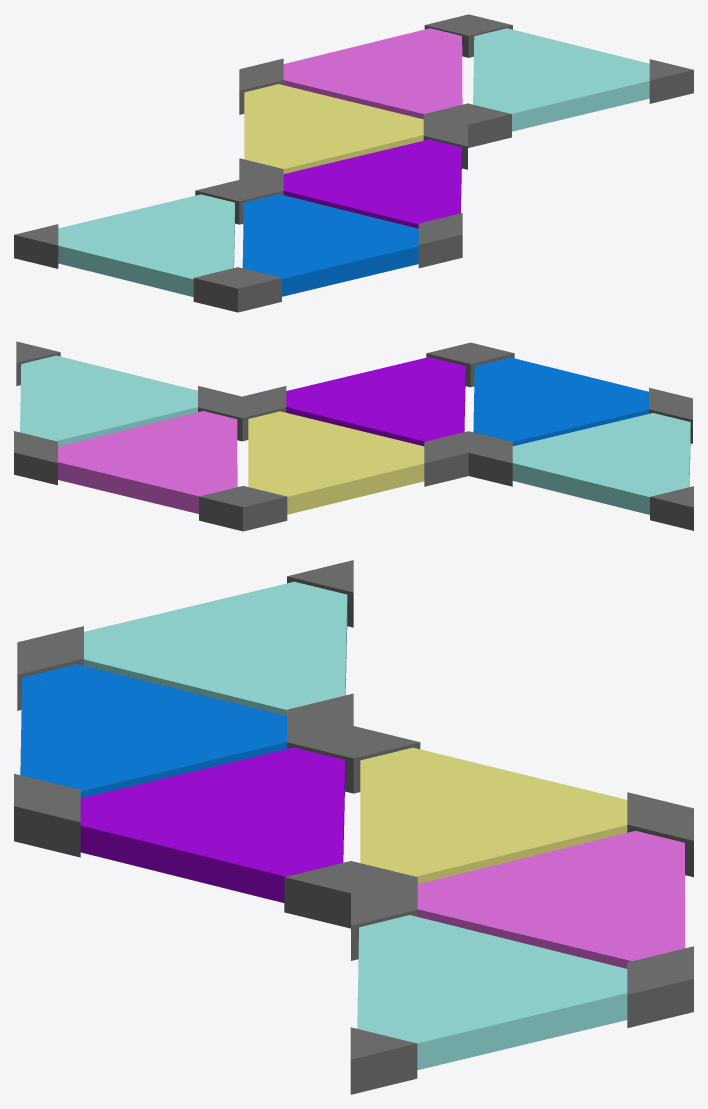
File: M_NanoLeaf.fbx
3 views of the same model, one above another, from view 1: azimuth 30°, elevation 25°; view 2: azimuth 150°, elevation 25°; view 3: azimuth 270°, elevation 25° (orthographic). The views are drawn at different scales.
Parts seen in each view (by area): view 1: pCylinder8, pCylinder2, pCylinder9, pasted__pCylinder5, pCylinder5, pCylinder3, pCylinder11, pCylinder4, pCylinder1, pCylinder10, pCylinder13, pCylinder14 (+2 smaller); view 2: pasted__pCylinder5, pCylinder5, pCylinder9, pCylinder8, pCylinder3, pCylinder2, pCylinder1, pCylinder6, pCylinder11, pCylinder7, pCylinder13, pCylinder10 (+2 smaller); view 3: pCylinder8, pCylinder3, pasted__pCylinder5, pCylinder5, pCylinder9, pCylinder2, pCylinder11, pCylinder1, pCylinder10, pCylinder7, pCylinder14, pCylinder6 (+2 smaller).
Part boxes in pixels (box(x1,y1,x2,y2)): pCylinder8: box(473, 28, 649, 131); pCylinder2: box(242, 194, 418, 296); pCylinder9: box(58, 194, 234, 296); pasted__pCylinder5: box(283, 28, 462, 119); pCylinder5: box(244, 84, 423, 173); pCylinder3: box(283, 139, 461, 228); pCylinder11: box(423, 103, 511, 169); pCylinder4: box(193, 267, 281, 312); pCylinder1: box(195, 158, 283, 224); pCylinder10: box(418, 213, 462, 268); pCylinder13: box(14, 224, 58, 268); pCylinder14: box(649, 59, 693, 103); pasted__pCylinder5: box(58, 411, 237, 513); pCylinder5: box(248, 411, 424, 514); pCylinder9: box(512, 413, 690, 514); pCylinder8: box(20, 355, 197, 446); pCylinder3: box(286, 357, 465, 446); pCylinder2: box(473, 357, 648, 446); pCylinder1: box(424, 431, 512, 486); pCylinder6: box(199, 486, 287, 531); pCylinder11: box(198, 386, 286, 441); pCylinder7: box(14, 431, 57, 485); pCylinder13: box(650, 486, 693, 530); pCylinder10: box(426, 342, 514, 387); pCylinder8: box(357, 915, 627, 1070); pCylinder3: box(80, 747, 344, 902); pasted__pCylinder5: box(417, 831, 685, 968); pCylinder5: box(360, 747, 627, 883); pCylinder9: box(84, 581, 347, 716); pCylinder2: box(20, 664, 286, 798); pCylinder11: box(284, 861, 417, 960); pCylinder1: box(287, 693, 420, 793); pCylinder10: box(14, 773, 80, 857); pCylinder7: box(627, 946, 693, 1027); pCylinder14: box(350, 1027, 417, 1094); pCylinder6: box(627, 792, 693, 877).
Size of the model in its own units: 25.88 by 0.899 by 14.89.
